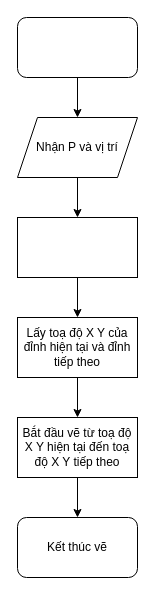
Image size: 155x595. Some labels were removed from this diagram. Here are the shapes that lost their labels. From the top down, the box of each, then its label:
(16, 16, 138, 78): Bắt đầu vẽ
(16, 216, 138, 278): Chạy vòng lập qua từng phần tử của mảng các cạnh
